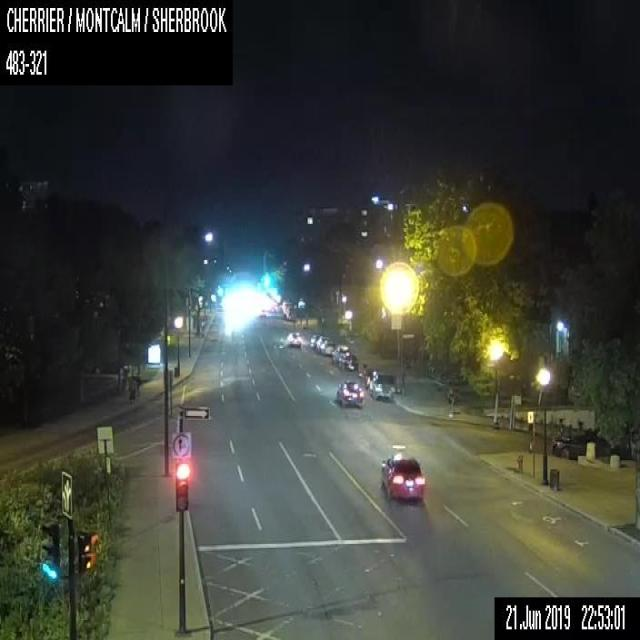pedestrian: (127, 375, 136, 406)
vehicle: (378, 453, 424, 500), (552, 427, 618, 457), (334, 380, 363, 405), (368, 373, 395, 399), (92, 361, 130, 374), (331, 344, 349, 364), (339, 352, 356, 371), (284, 328, 301, 347), (319, 339, 335, 354), (315, 334, 328, 352), (308, 332, 320, 348)
